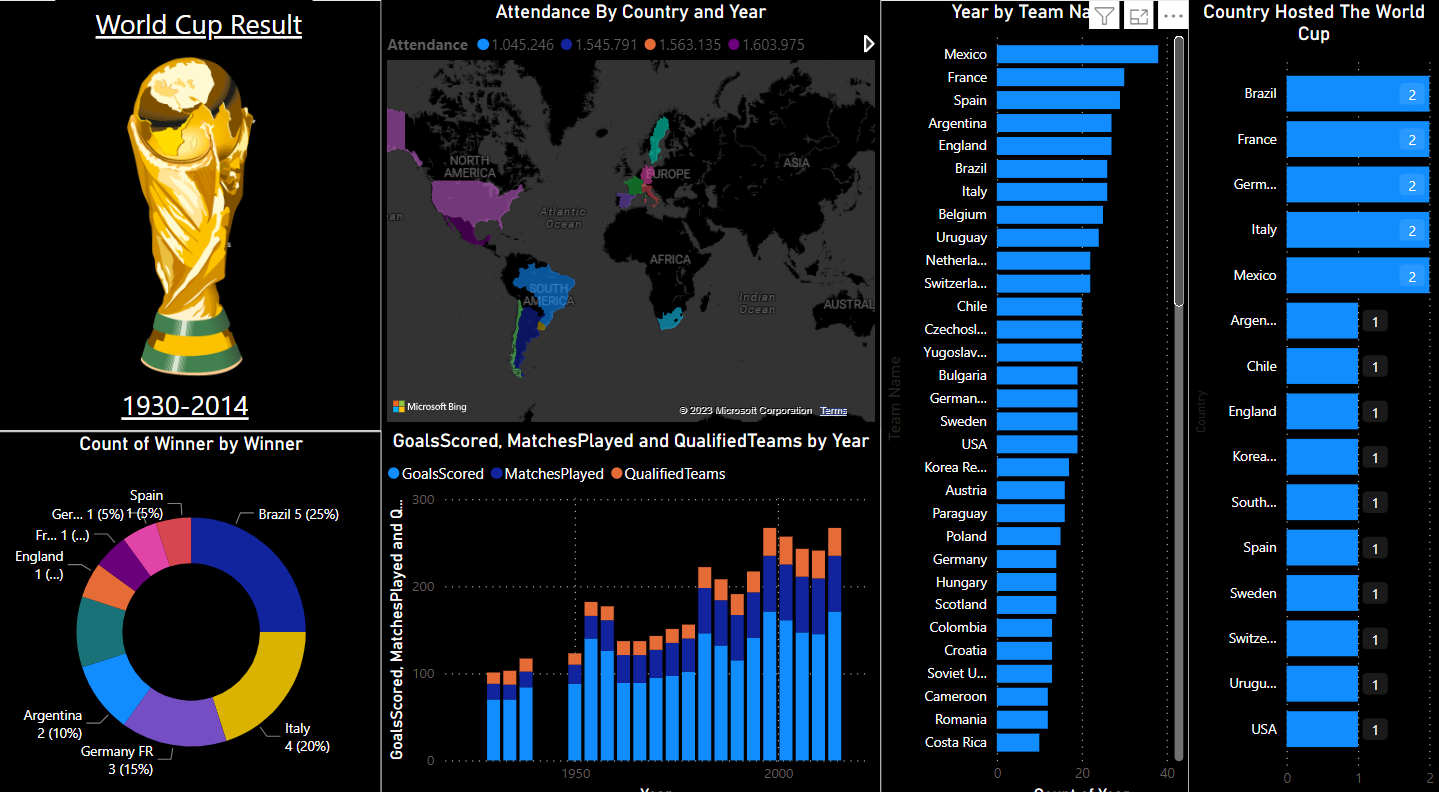

This screenshot's page, from the dashboard's own definition file:
{"tool":"powerbi","page":{"name":"Page 1","canvas":[1280,720],"ordinal":0},"visuals":[{"type":"image","box":[0,0,340.1,383.2],"z":0},{"type":"textbox","box":[49.7,0,228.9,47.1],"z":1000},{"type":"textbox","box":[74.6,338.8,181.8,41.9],"z":2000},{"type":"columnChart","fields":{"Category":["WorldCups.Year"],"Y":["Sum(WorldCups.GoalsScored)","Sum(WorldCups.MatchesPlayed)","Sum(WorldCups.QualifiedTeams)"]},"box":[340.1,380.6,443.4,338.8],"z":3000},{"type":"donutChart","fields":{"Category":["WorldCups.Winner"],"Y":["CountNonNull(WorldCups.Winner)"]},"box":[0,383.2,340.1,336.2],"z":4000},{"type":"barChart","title":"Year by Team Name","fields":{"Category":["WorldCupMatches.Away Team Name"],"Y":["CountNonNull(WorldCupMatches.Year)"]},"box":[783.5,0,274.7,719.4],"z":5000},{"type":"barChart","title":"Country Hosted The World Cup","fields":{"Category":["WorldCups.Country"],"Y":["CountNonNull(WorldCups.Country)"]},"box":[1058.2,0,222.4,719.4],"z":6000},{"type":"filledMap","title":"Attendance By Country and Year ","fields":{"Category":["WorldCups.Country"],"Series":["WorldCups.Attendance"]},"box":[340.1,0,443.4,380.6],"z":7000}]}

Visuals, with their boxes in screenshot pixels (x1, y1, x2, y2), scaled from the page's 1280x720 canvas onto the 1439x792 screenshot:
image: detection(0, 0, 382, 422)
textbox: detection(56, 0, 313, 52)
textbox: detection(84, 373, 288, 419)
columnChart - WorldCups.Year x Sum(WorldCups.GoalsScored): detection(382, 419, 881, 791)
donutChart - WorldCups.Winner x CountNonNull(WorldCups.Winner): detection(0, 422, 382, 791)
"Year by Team Name" barChart: detection(881, 0, 1190, 791)
"Country Hosted The World Cup" barChart: detection(1190, 0, 1438, 791)
"Attendance By Country and Year " filledMap: detection(382, 0, 881, 419)
